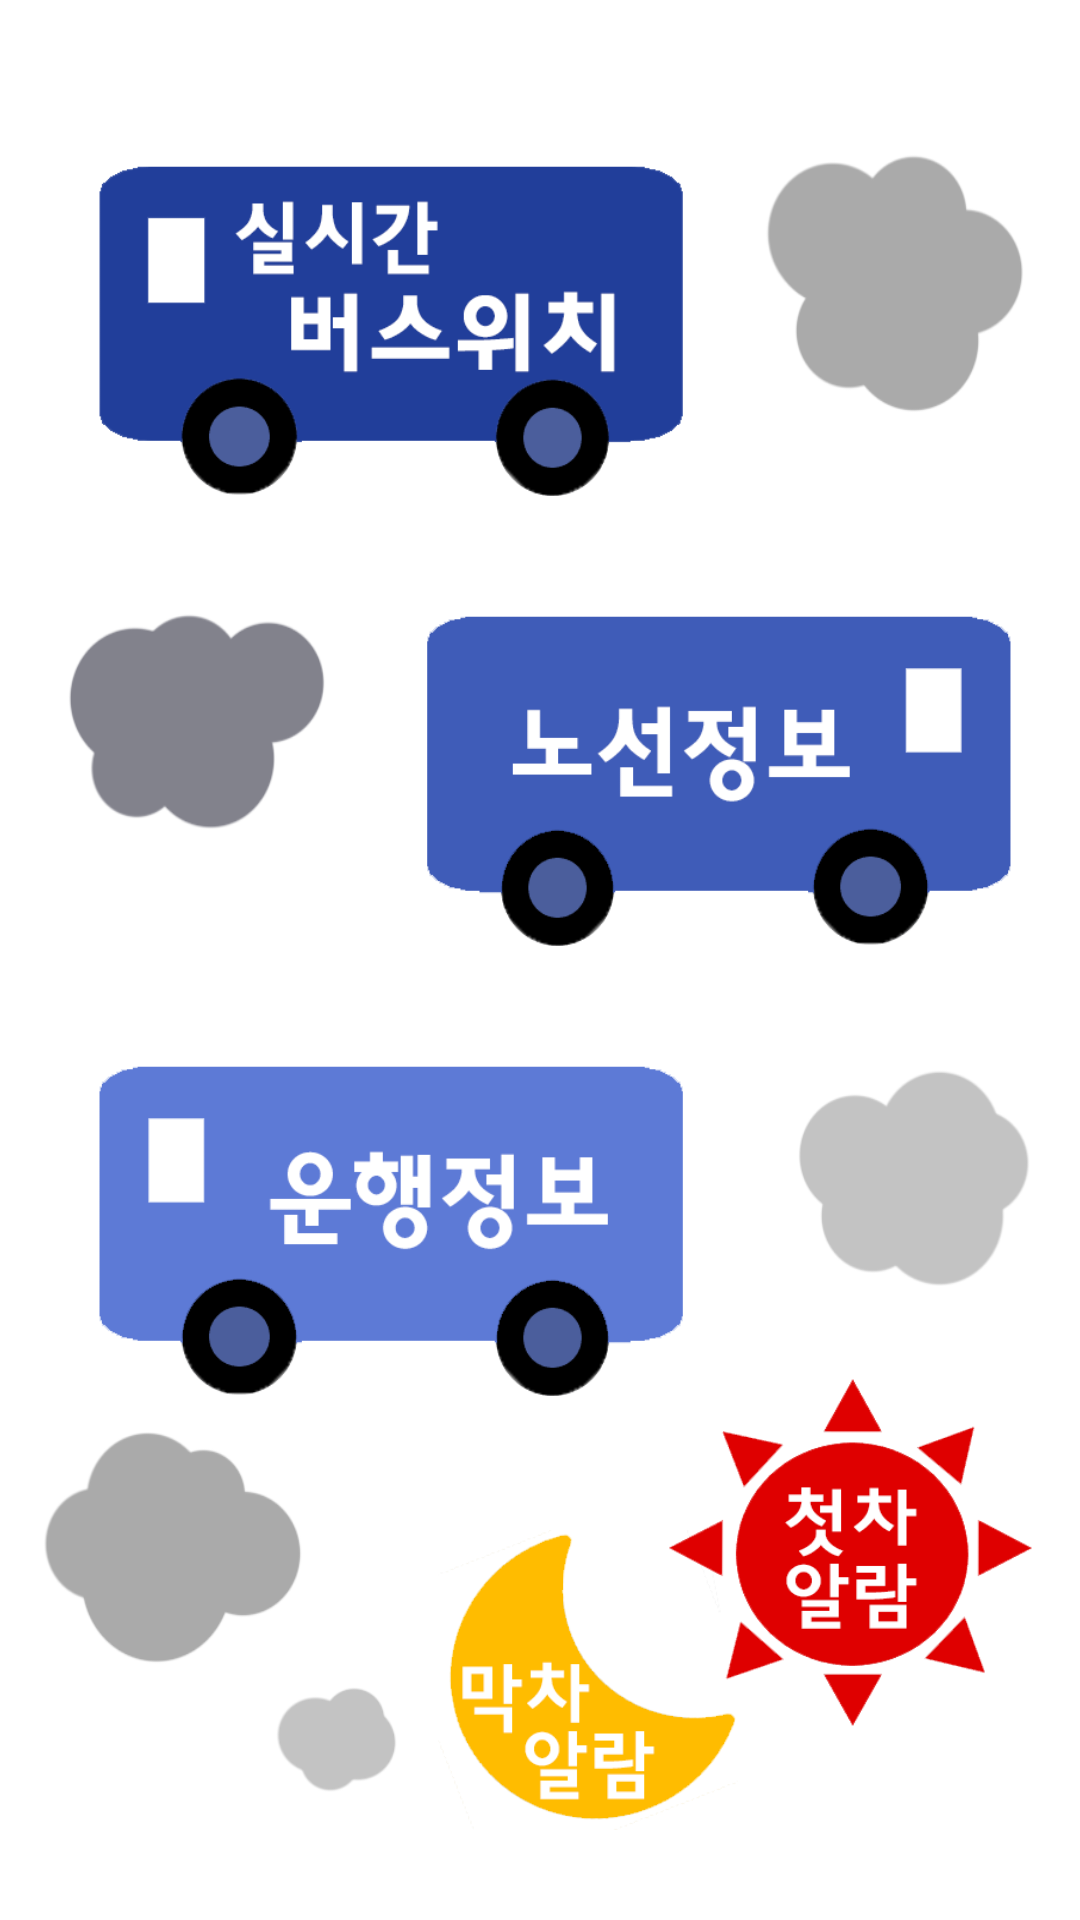

Icon click points for this 1080×1920 phone screenshot, format [x,y]:
cnu moon: [592,1677]
